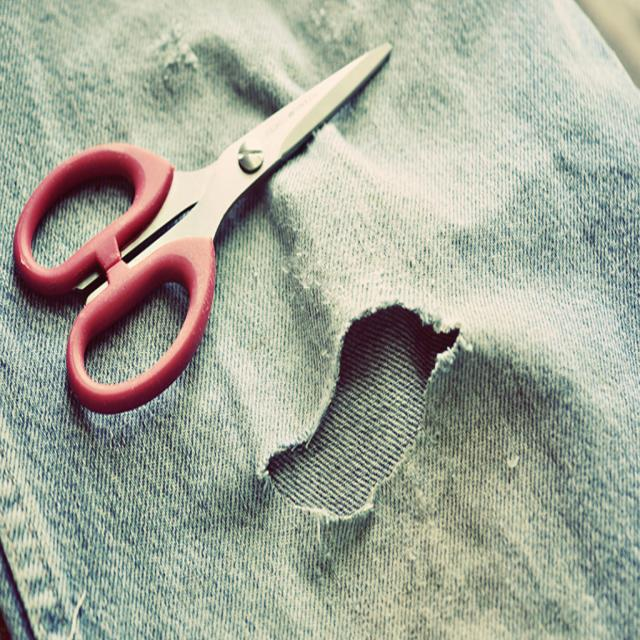scissors: (13, 41, 393, 414)
